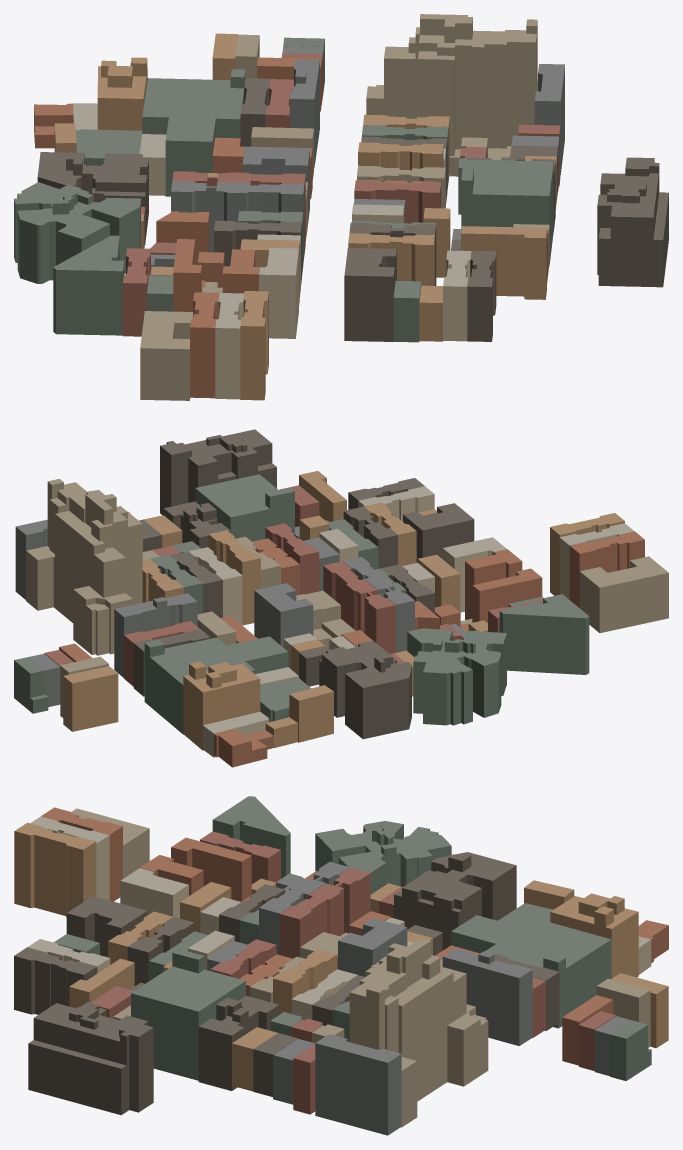
Rendered from tile--2_0.glb.
3 views of the same model, one above another, from view 1: azimuth 30°, elevation 25°; view 2: azimuth 150°, elevation 25°; view 3: azimuth 270°, elevation 25° (orthographic). The views are drawn at different scales.
Visible parts, largest first — view 1: wall, roof; view 2: wall, roof; view 3: wall, roof.
Boxes of the visible parts, x1,y1,x2,y2 form: wall: [14, 18, 668, 400]; roof: [14, 14, 668, 349]; wall: [14, 435, 668, 767]; roof: [14, 429, 668, 750]; wall: [14, 815, 668, 1135]; roof: [14, 796, 668, 1070].
Size of the model in its own units: 208 by 49.73 by 206.
